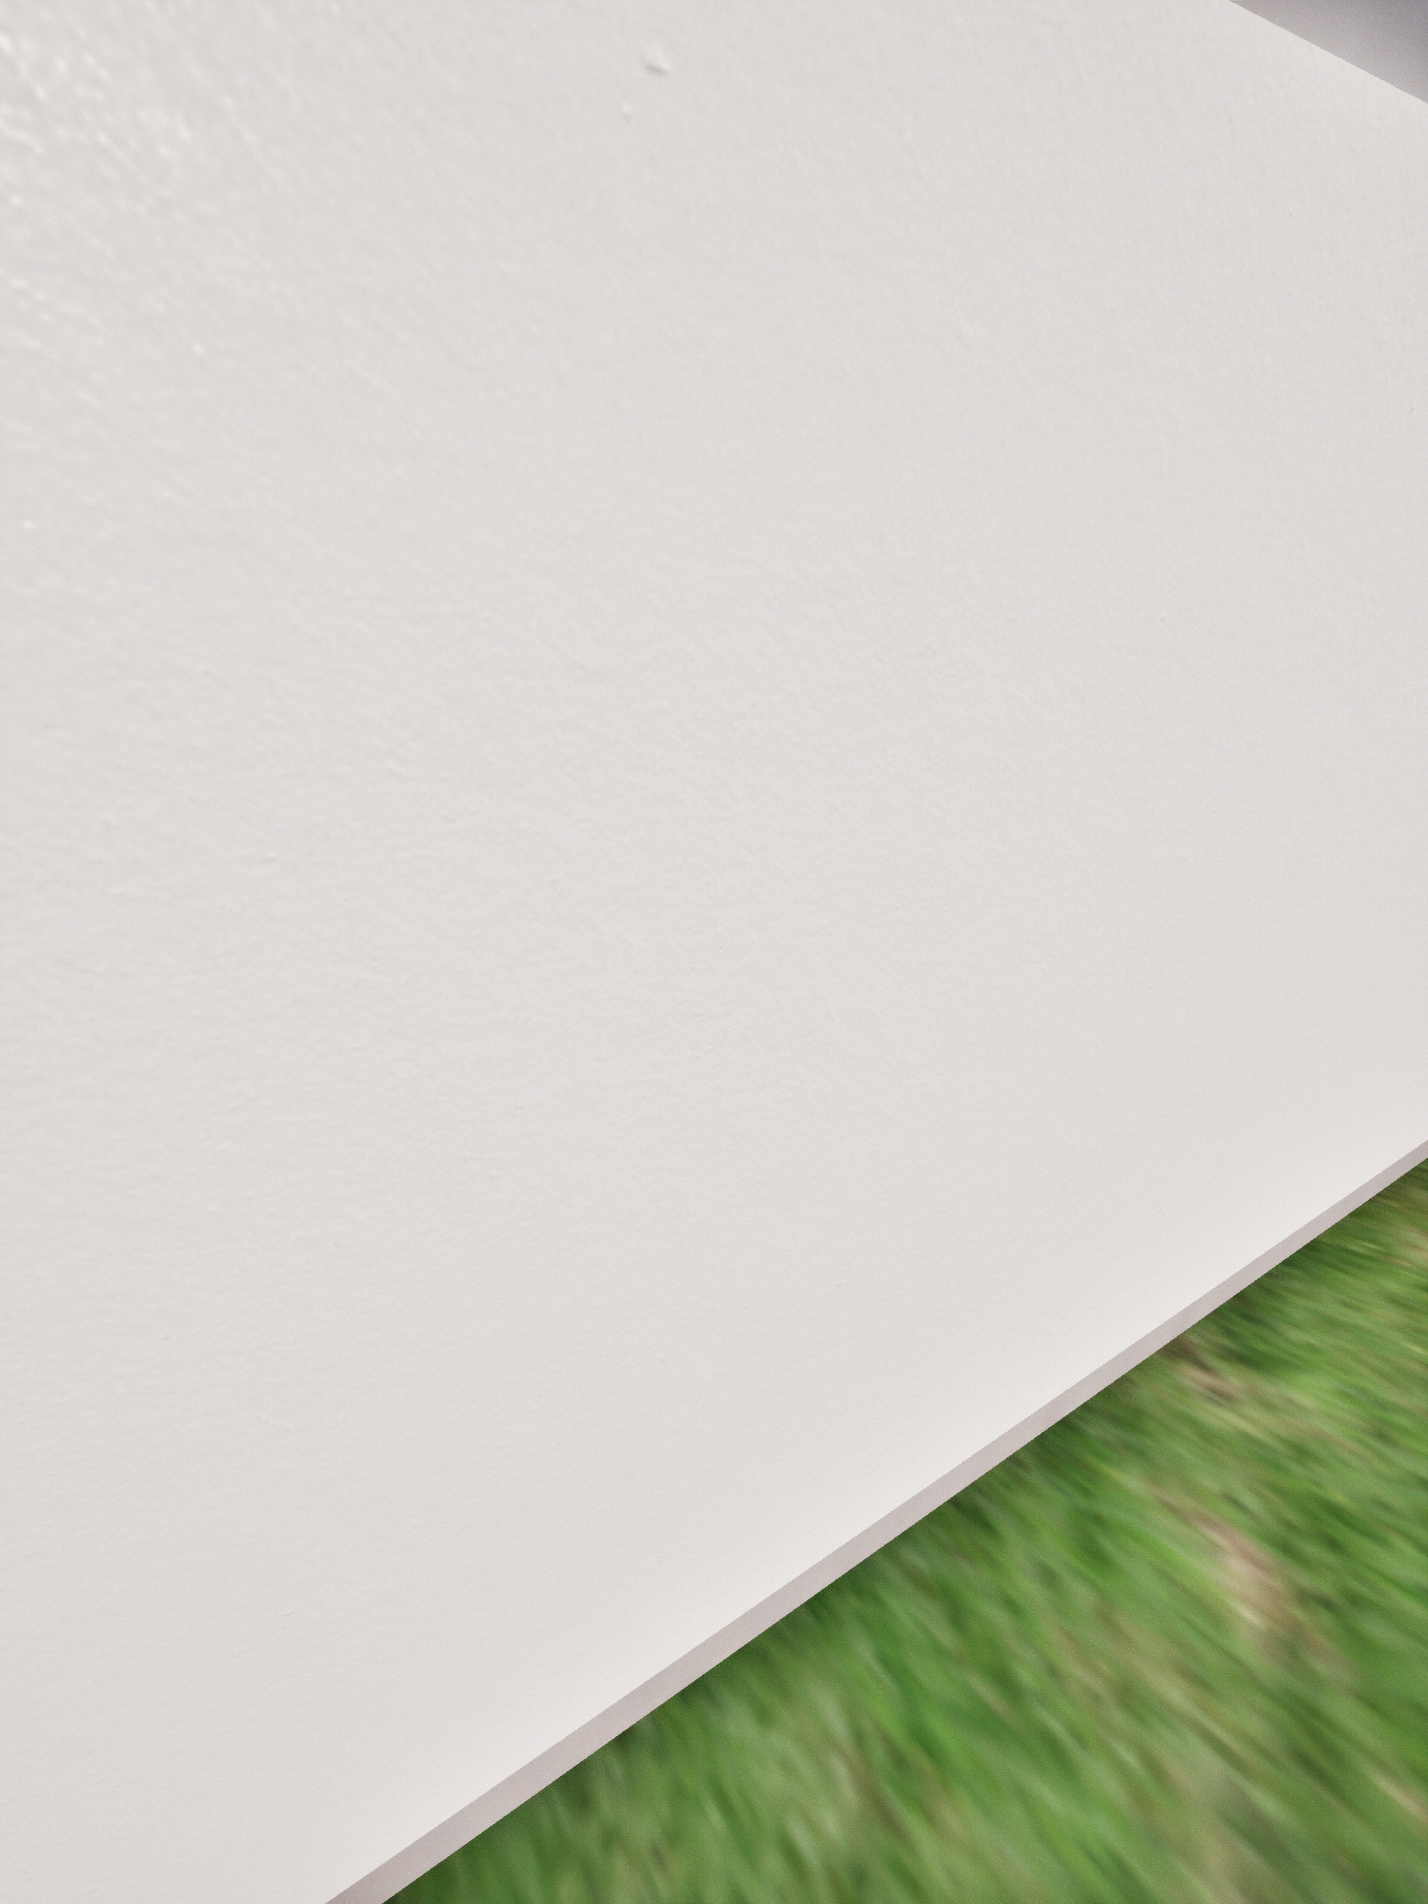cheerios: (978, 994, 1015, 1058)
